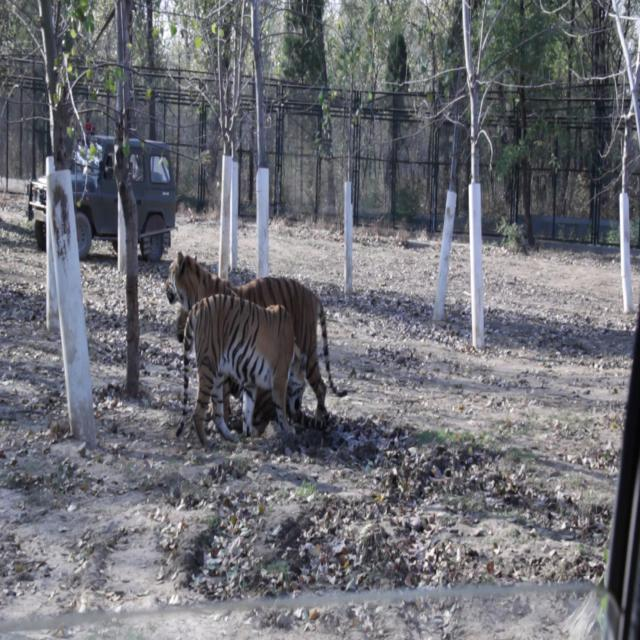Tiger: (170, 280, 308, 442), (246, 266, 343, 411), (159, 242, 232, 303)
